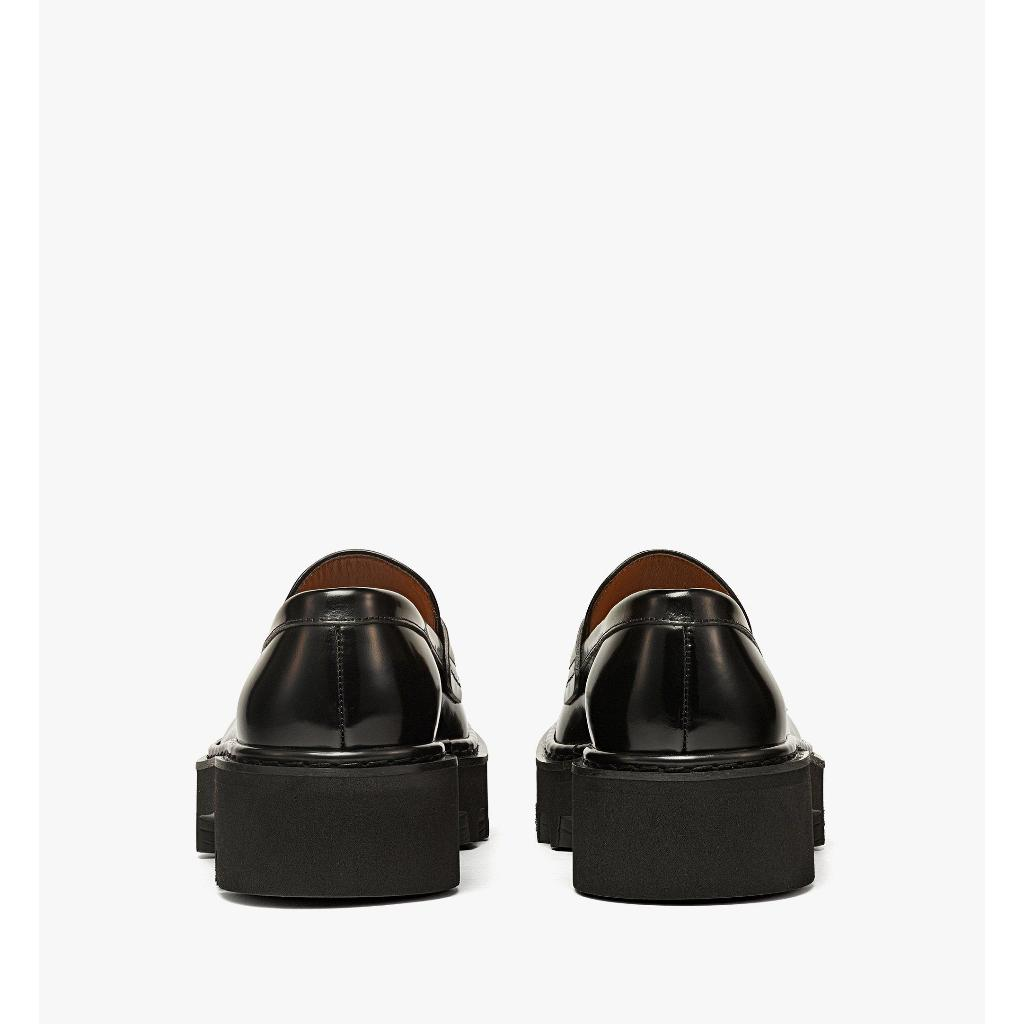loafers: (194, 549, 494, 911), (534, 547, 828, 907)
